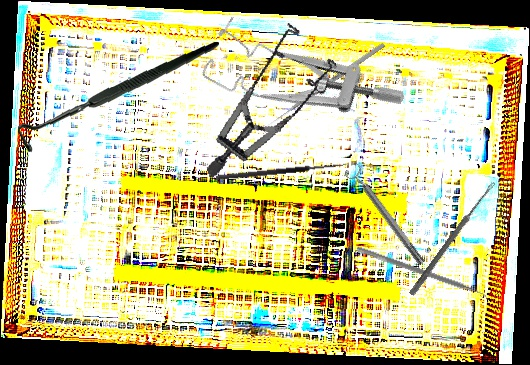Fixation Ring: (343, 161, 429, 270)
Hook Surgical: (16, 31, 220, 163), (214, 155, 348, 181)
Pusher: (264, 42, 386, 129)
Spatula Surgical: (353, 246, 494, 304)
Speculum: (196, 0, 408, 166), (171, 13, 358, 178)
Surgical Spoon: (408, 180, 497, 297)
